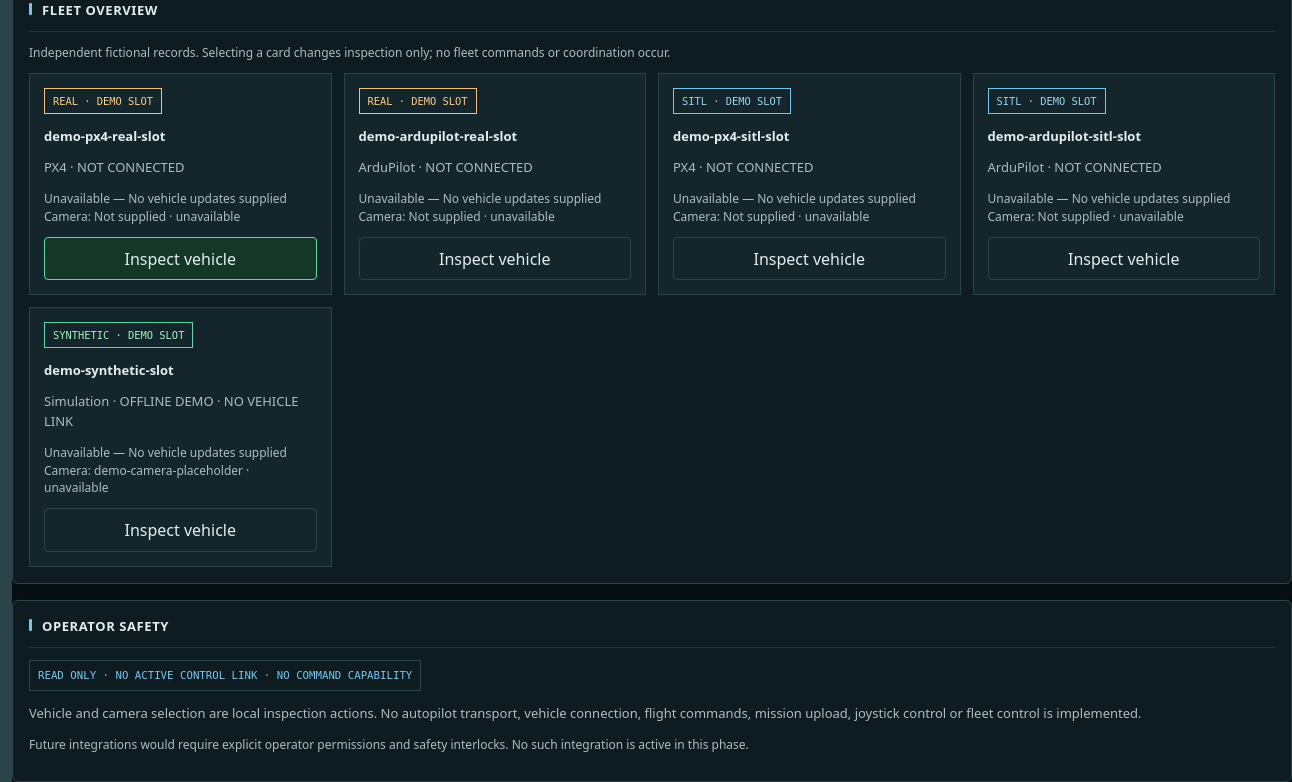
Test: keeps synthetic records explicitly separate from future real/SITL categories
(page scrolled)
What coordinates should you click on to do the following:
click the button "Inspect vehicle" below "demo-camera-placeholder"
I would click on:
 (180, 530)
Its box is [44,508,316,552].
(page scrolled)
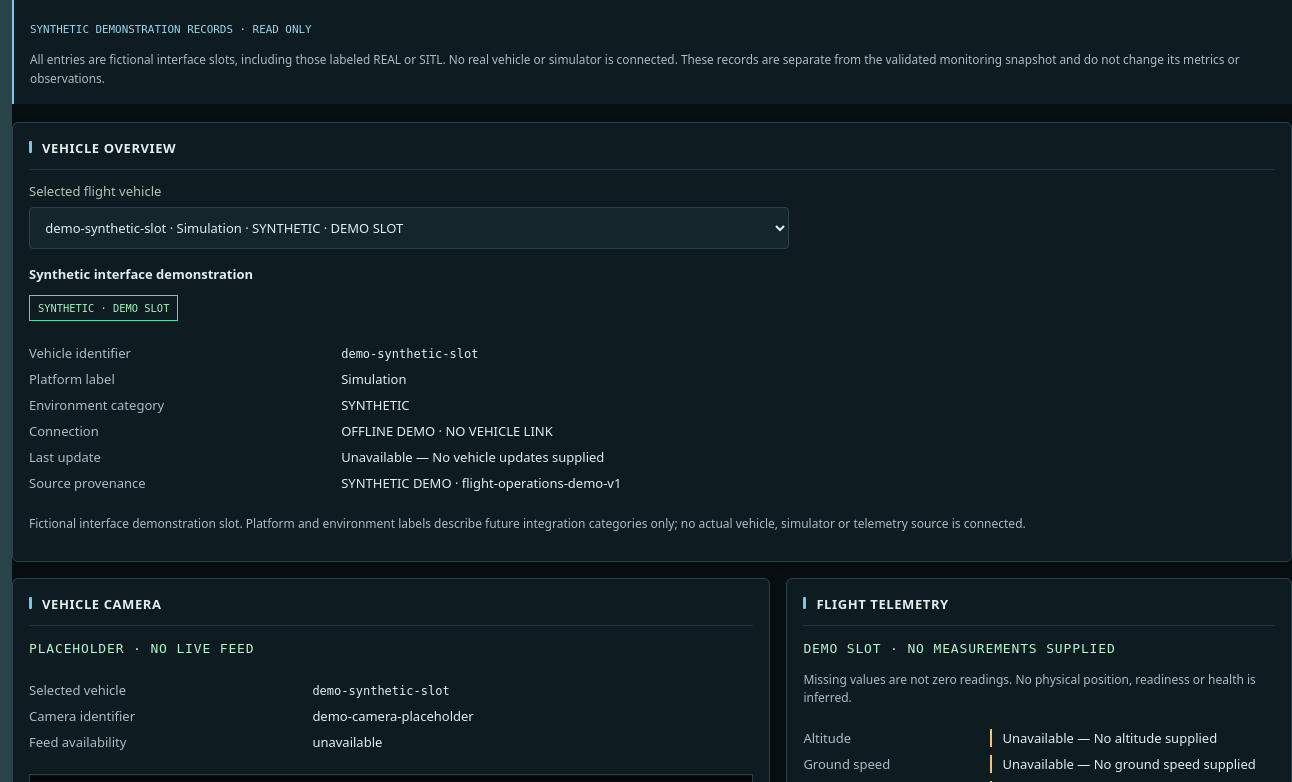
Expected: the element named "Selected vehicle details" shows "Synthetic", [38,302,94,314]
Expected: the element named "Selected vehicle details" shows "OFFLINE DEMO · NO VEHICLE LINK", [341,422,553,440]
